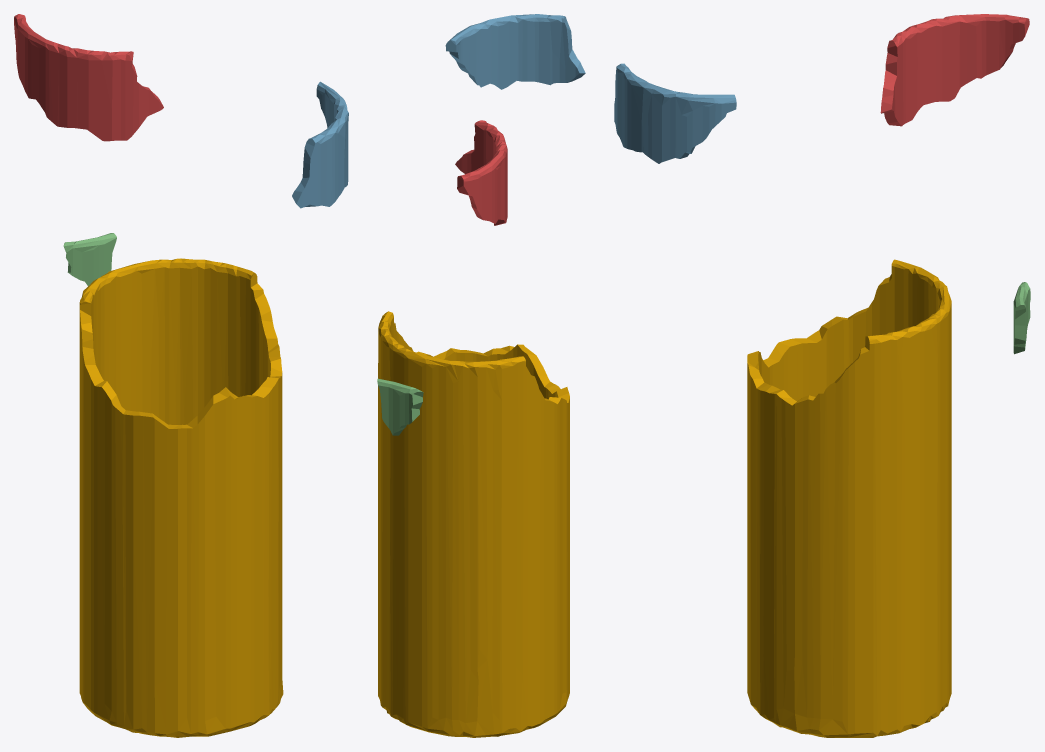
File: fractured_12_4pcs_transformed.glb
3 renders of one model, left to right at view 1: azimuth 30°, elevation 25°; view 2: azimuth 150°, elevation 25°; view 3: azimuth 270°, elevation 25°, orthographic. The views are drawn at different scales.
Visible parts, largest first — view 1: piece_0.obj, piece_1.obj, piece_2.obj, piece_3.obj; view 2: piece_0.obj, piece_2.obj, piece_1.obj, piece_3.obj; view 3: piece_0.obj, piece_1.obj, piece_2.obj, piece_3.obj.
Boxes of the visible parts, x1,y1,x2,y2 form: piece_0.obj: [79, 258, 283, 737]; piece_1.obj: [14, 14, 163, 141]; piece_2.obj: [292, 81, 348, 208]; piece_3.obj: [63, 233, 116, 286]; piece_0.obj: [378, 311, 569, 737]; piece_2.obj: [445, 14, 585, 89]; piece_1.obj: [455, 120, 507, 225]; piece_3.obj: [377, 378, 423, 435]; piece_0.obj: [747, 259, 951, 737]; piece_1.obj: [880, 14, 1029, 126]; piece_2.obj: [614, 63, 736, 163]; piece_3.obj: [1013, 282, 1030, 354].
Size of the model in its own units: 0.4605 by 1.6 by 0.9385.
